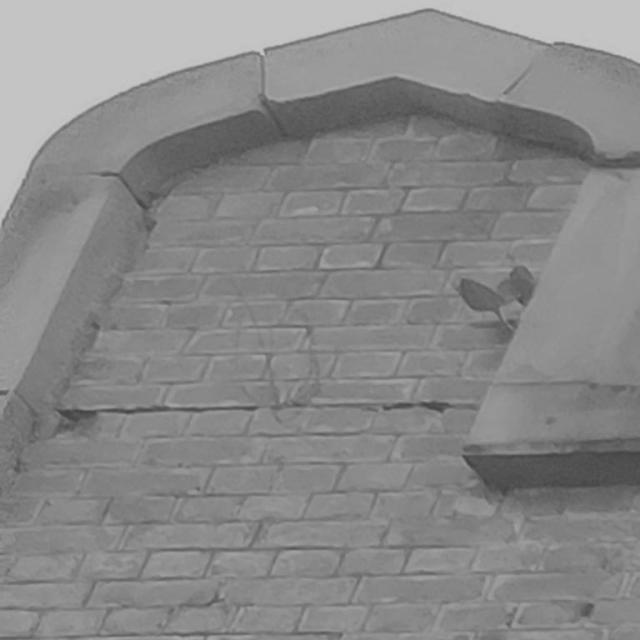crack: (45, 400, 481, 441)
